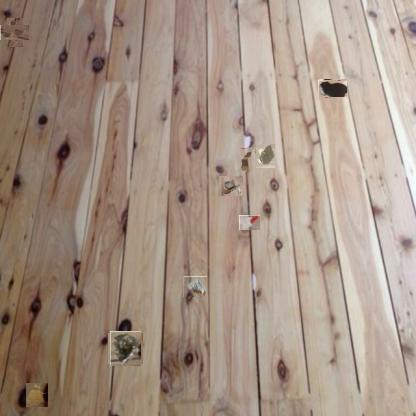dirty: (109, 332, 142, 365), (4, 21, 26, 44), (183, 276, 207, 297), (254, 145, 276, 167), (219, 176, 243, 196), (238, 148, 252, 172), (239, 215, 260, 230)
liquid: (26, 383, 48, 407), (318, 80, 347, 98)
